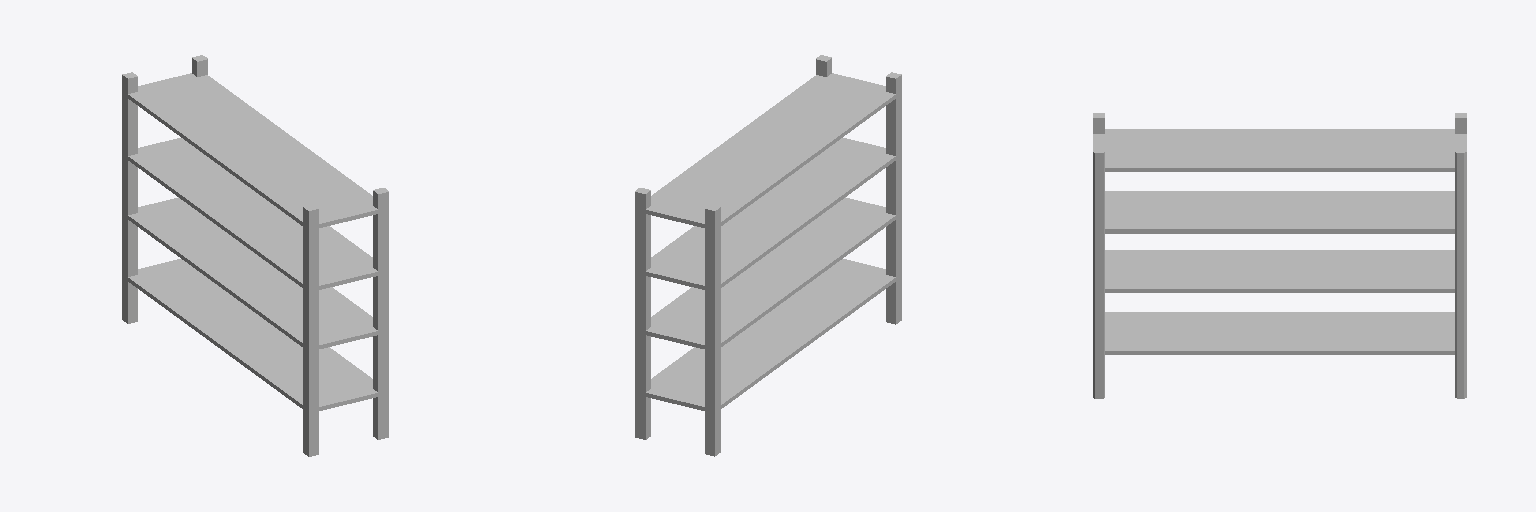
The model's file is storageShelves.obj.
3 views of the same model, side by side, from view 1: azimuth 30°, elevation 25°; view 2: azimuth 150°, elevation 25°; view 3: azimuth 270°, elevation 25° (orthographic).
Visible parts, largest first — view 1: Shelves; view 2: Shelves; view 3: Shelves.
Boxes of the visible parts, box(x1,y1,x2,y2) form: Shelves: box(122, 55, 388, 456); Shelves: box(635, 55, 901, 456); Shelves: box(1093, 113, 1466, 398).
Size of the model in its own units: 22.32 by 64.76 by 89.15.